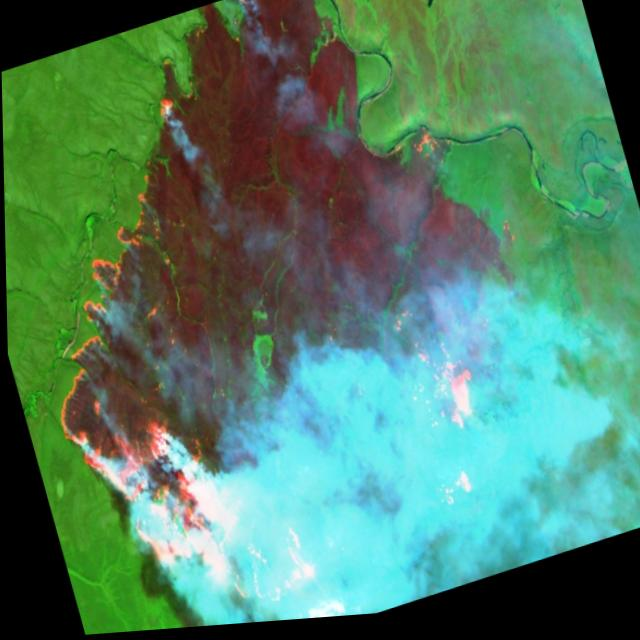fire: (0, 0, 598, 640)
